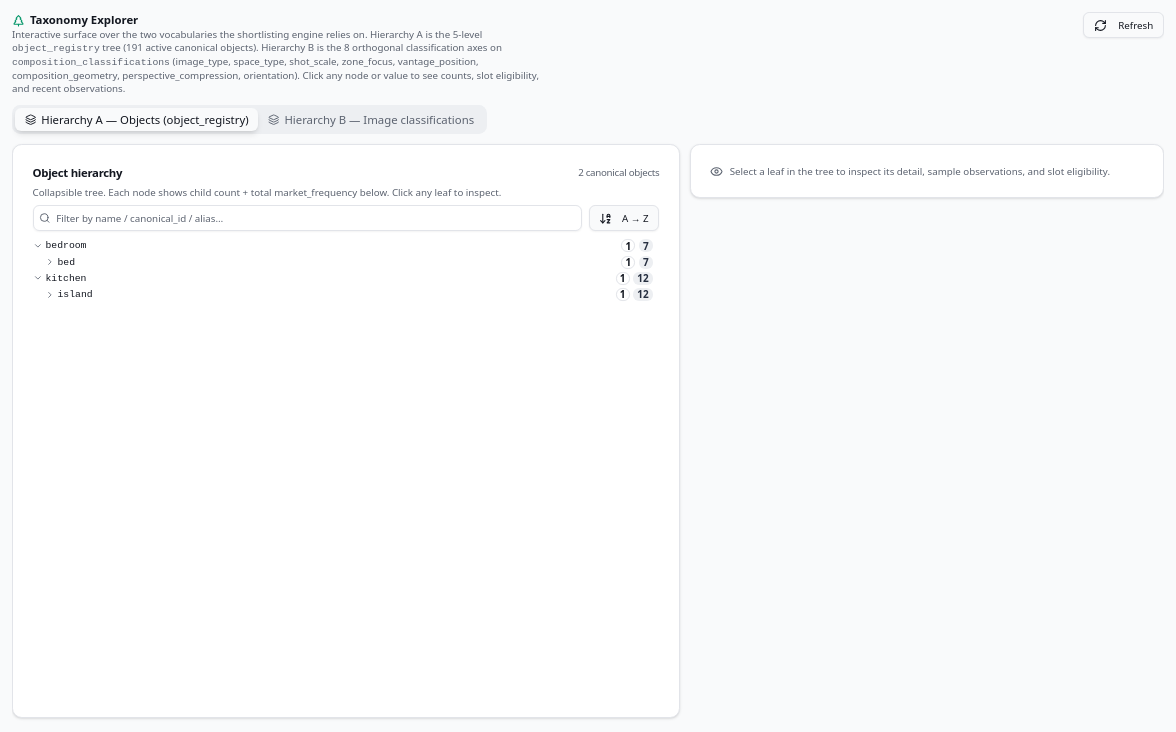
it: TaxonomyExplorerTab — W11.6.26 + mig 441 › Hierarchy B primary axes do NOT include room_type or composition_type (mig 441/451 demoted them)
This screenshot has width=1176, height=732.
Step 1. Click the tab with test id "taxonomy-mode-b" → {"x": 371, "y": 120}, box left=258, top=108, right=484, bottom=131
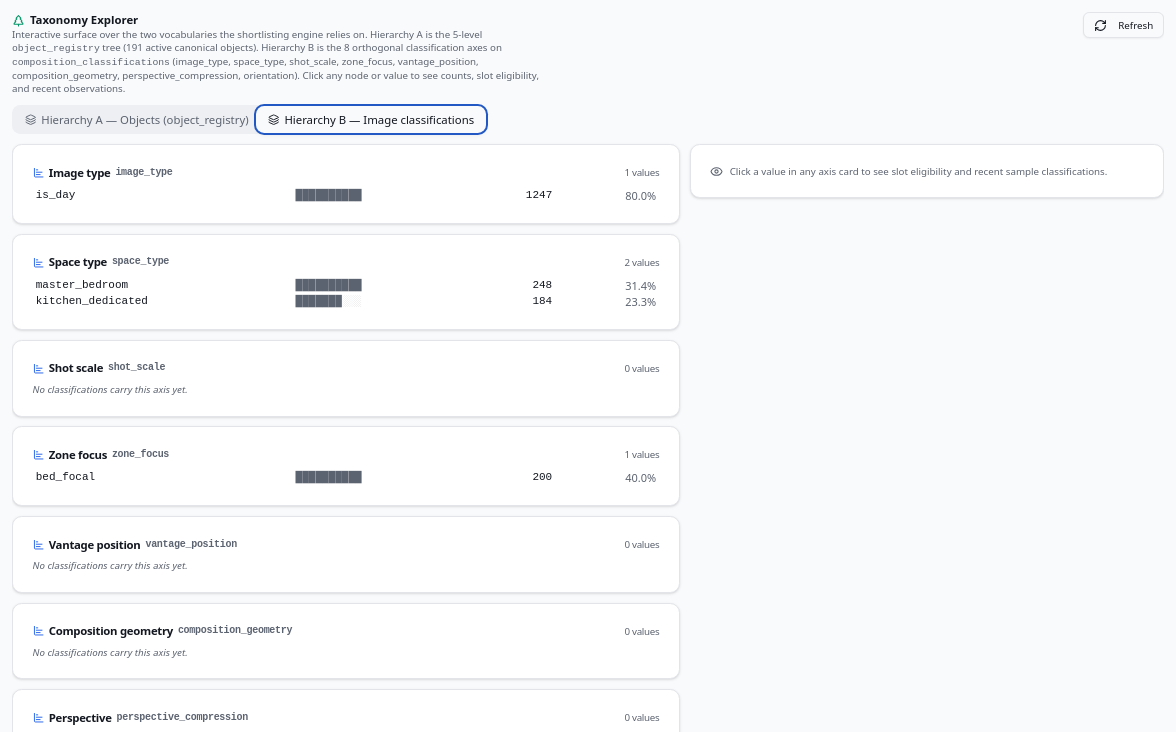
Expected: the element with test id "taxonomy-b-axis-image_type" is shown, left=12, top=144, right=680, bottom=224
Expected: the element with test id "taxonomy-b-axis-space_type" is shown, left=12, top=234, right=680, bottom=330
Expected: the element with test id "taxonomy-b-axis-zone_focus" is shown, left=12, top=426, right=680, bottom=506
